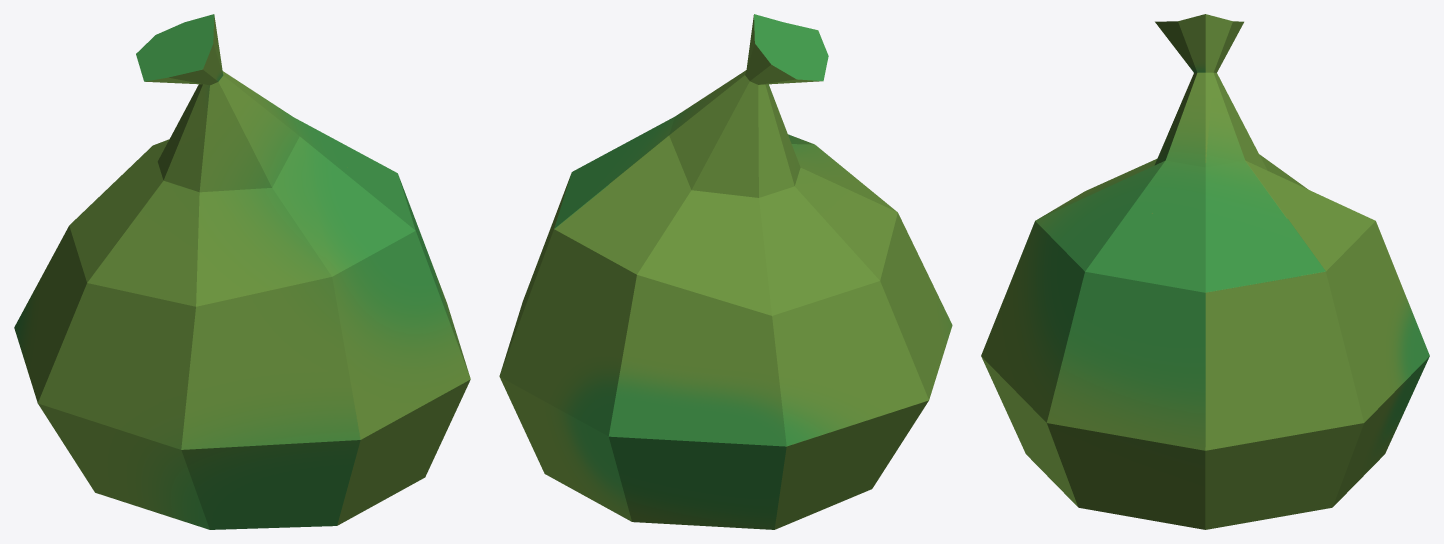
The model's file is Trash Bag.fbx.
3 renders of one model, left to right at view 1: azimuth 30°, elevation 25°; view 2: azimuth 150°, elevation 25°; view 3: azimuth 270°, elevation 25°, orthographic. The views are drawn at different scales.
Visible parts, largest first — view 1: Sphere; view 2: Sphere; view 3: Sphere.
Boxes of the visible parts, x1,y1,x2,y2 form: Sphere: (14, 14, 470, 529); Sphere: (499, 14, 952, 529); Sphere: (981, 14, 1429, 529).
Bounding box in the file's own units: 224 × 235 × 224.
